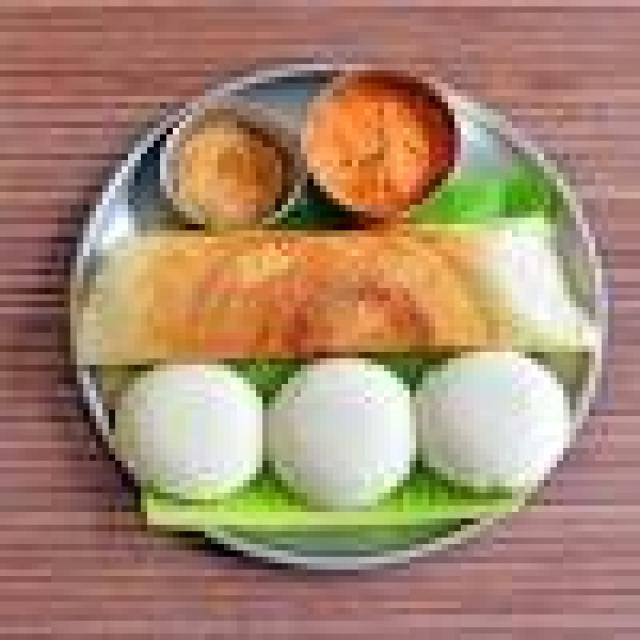dosa: (44, 218, 602, 358)
idli: (250, 339, 416, 506), (403, 333, 570, 499), (102, 352, 262, 512)
